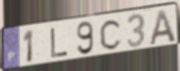1: (21, 29, 35, 65)
3: (126, 12, 148, 49)
9: (75, 21, 95, 57)
A: (148, 8, 178, 47)
C: (99, 18, 123, 52)
L: (49, 27, 69, 60)
